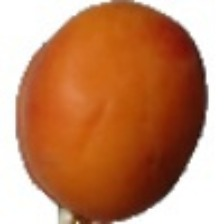apricot: (32, 42, 206, 179)
